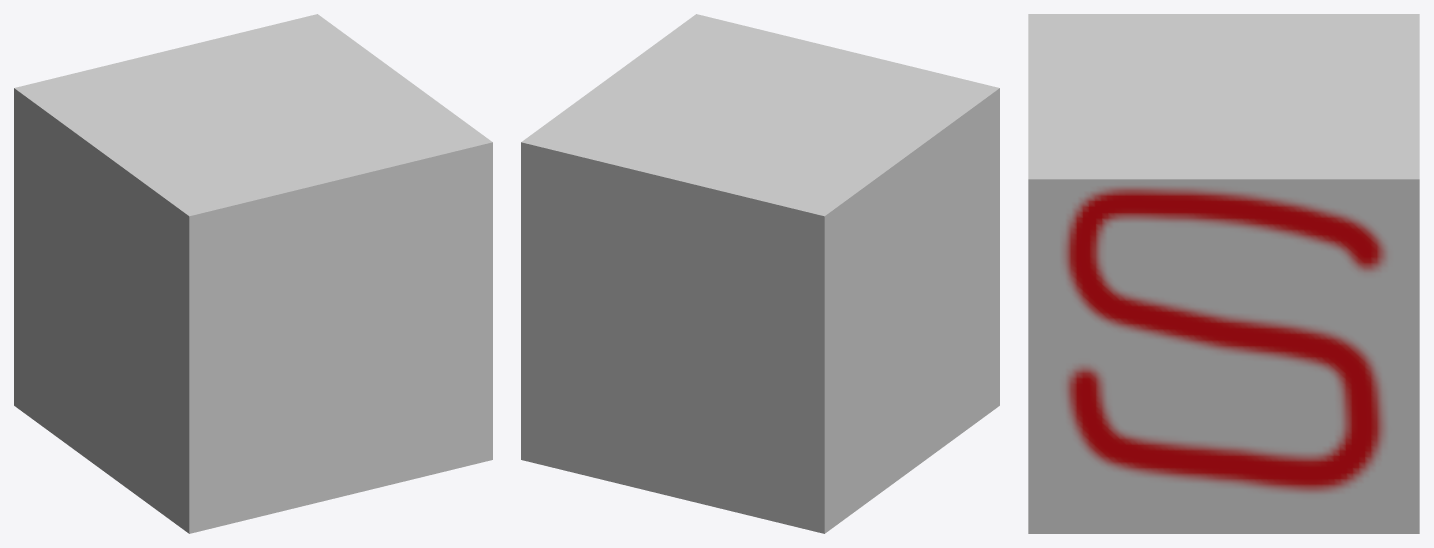
The model's file is ComplexCube.fbx.
3 renders of one model, left to right at view 1: azimuth 30°, elevation 25°; view 2: azimuth 150°, elevation 25°; view 3: azimuth 270°, elevation 25°, orthographic. The views are drawn at different scales.
Parts seen in each view (by area): view 1: Cube; view 2: Cube; view 3: Cube.
Part boxes in pixels (x1,y1,x2,y2): Cube: (14, 14, 492, 533); Cube: (521, 14, 999, 533); Cube: (1028, 14, 1419, 533).
Bounding box in the file's own units: 200 × 200 × 200.
